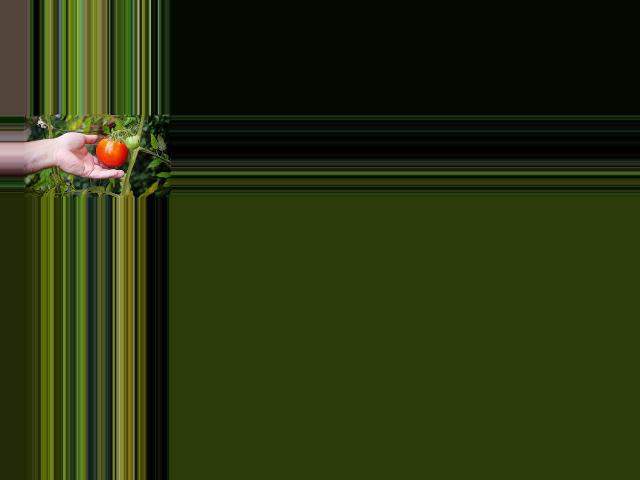tomato: (95, 138, 128, 166)
